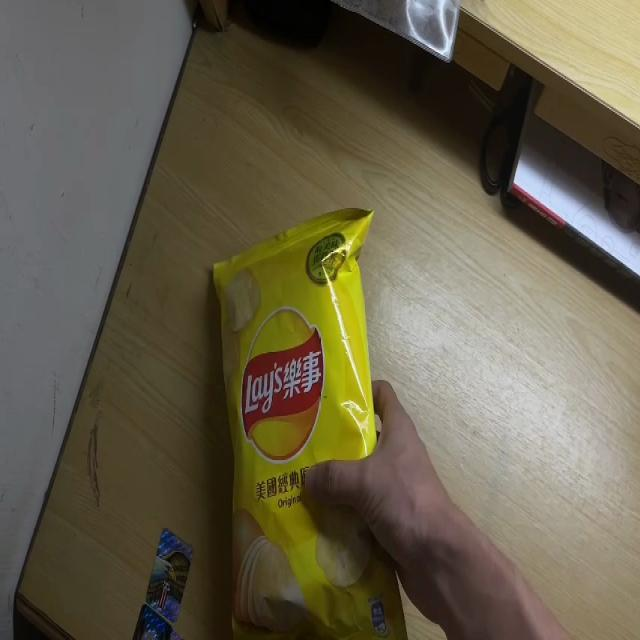Lay-s-original: (212, 201, 406, 640)
